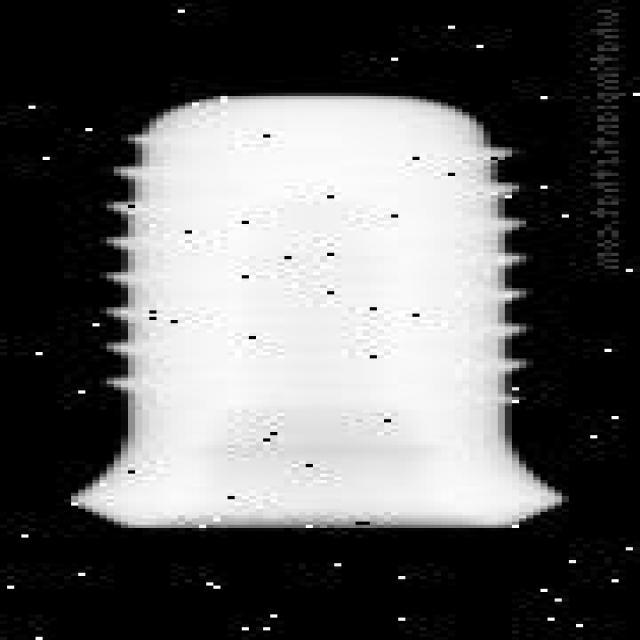Root canal filling: (71, 93, 562, 528)
